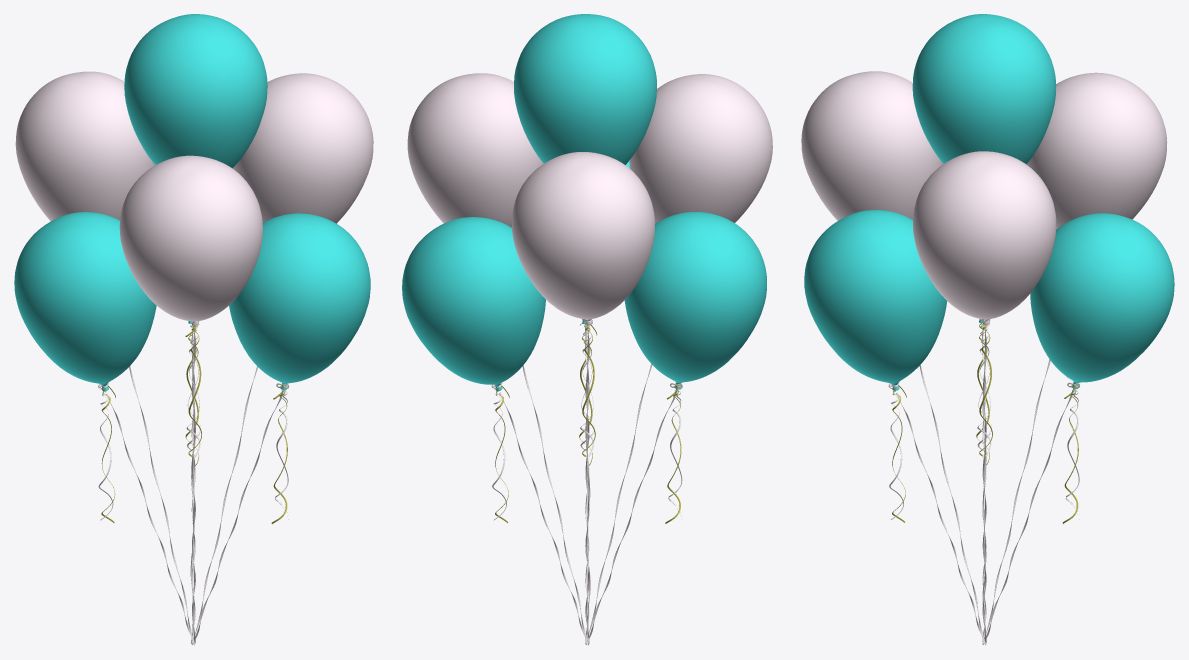
File: balloon.glb
3 renders of one model, left to right at view 1: azimuth 30°, elevation 25°; view 2: azimuth 150°, elevation 25°; view 3: azimuth 270°, elevation 25°, orthographic.
Parts seen in each view (by area): view 1: 13499_Balloon_Cluster_v1_L2; view 2: 13499_Balloon_Cluster_v1_L2; view 3: 13499_Balloon_Cluster_v1_L2.
Boxes of the visible parts, x1=… form: 13499_Balloon_Cluster_v1_L2: x1=14, y1=14, x2=373, y2=645; 13499_Balloon_Cluster_v1_L2: x1=402, y1=14, x2=772, y2=645; 13499_Balloon_Cluster_v1_L2: x1=801, y1=14, x2=1174, y2=645.
Size of the model in its own units: 29.64 by 51.84 by 28.05.
3 materials, 1 textured.
